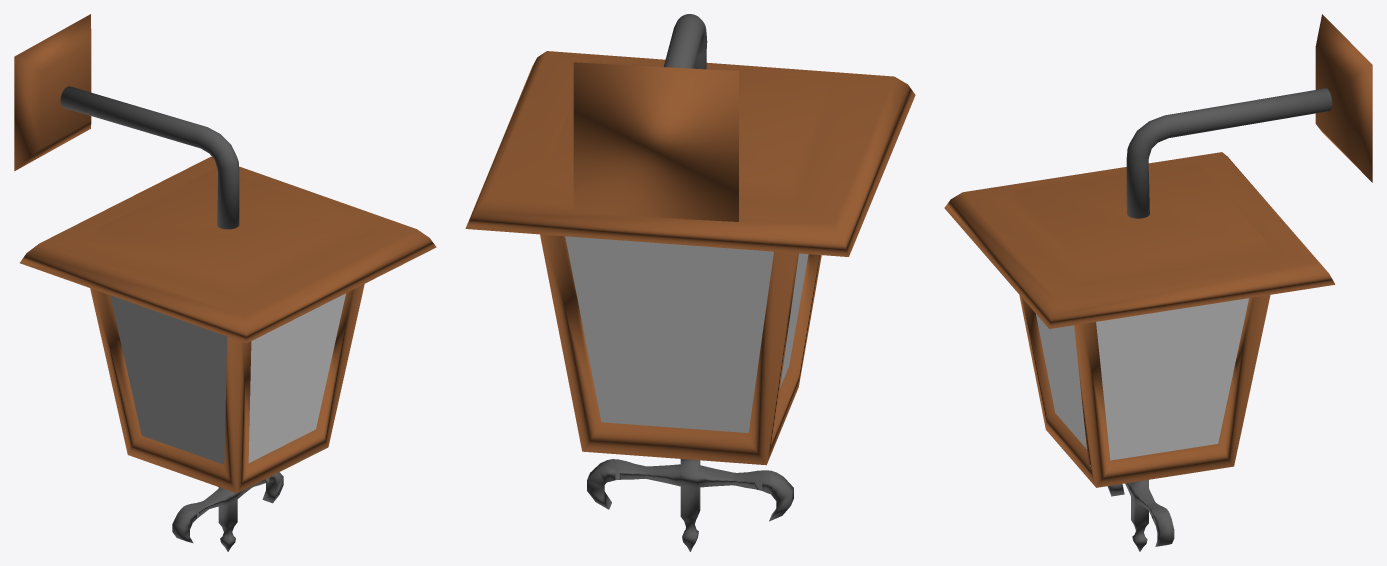
Rendered from light_fixture.glb.
The picture shows the model from 3 angles, left to right: view 1: azimuth 30°, elevation 25°; view 2: azimuth 150°, elevation 25°; view 3: azimuth 270°, elevation 25°; orthographic projection. The views are drawn at different scales.
Visible parts, largest first — view 1: Cube, Plane, Plane.001, Plane.004, Cylinder, Cube.002; view 2: Cube, Plane.003, Plane.004, Cube.002, Cylinder, Plane; view 3: Cube, Plane.002, Cylinder, Plane.004, Plane.001, Cube.002.
Boxes of the visible parts, bbox=[...] form: Cube: bbox=[20, 156, 436, 493]; Plane: bbox=[110, 295, 227, 464]; Plane.001: bbox=[248, 293, 345, 462]; Plane.004: bbox=[14, 14, 91, 171]; Cylinder: bbox=[60, 86, 239, 229]; Cube.002: bbox=[172, 472, 283, 551]; Cube: bbox=[465, 51, 915, 465]; Plane.003: bbox=[565, 236, 773, 432]; Plane.004: bbox=[573, 62, 738, 221]; Cube.002: bbox=[587, 459, 793, 551]; Cylinder: bbox=[663, 14, 707, 69]; Plane: bbox=[780, 253, 808, 387]; Cube: bbox=[944, 152, 1335, 487]; Plane.002: bbox=[1090, 298, 1248, 468]; Cylinder: bbox=[1126, 88, 1332, 218]; Plane.004: bbox=[1315, 14, 1372, 182]; Plane.001: bbox=[1036, 314, 1086, 448]; Cube.002: bbox=[1107, 480, 1174, 551].
Bounding box in the file's own units: 2.97 × 3.98 × 3.25.
